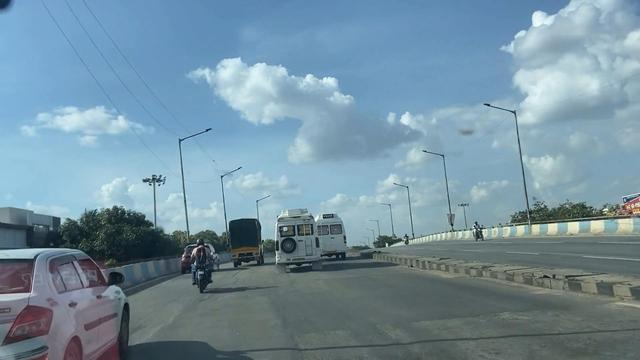HMV: (271, 207, 324, 264), (229, 217, 265, 267), (316, 213, 348, 260)
LMV: (1, 247, 138, 360), (191, 234, 209, 289)
RoadDamages: (275, 311, 593, 360), (143, 289, 210, 344)
